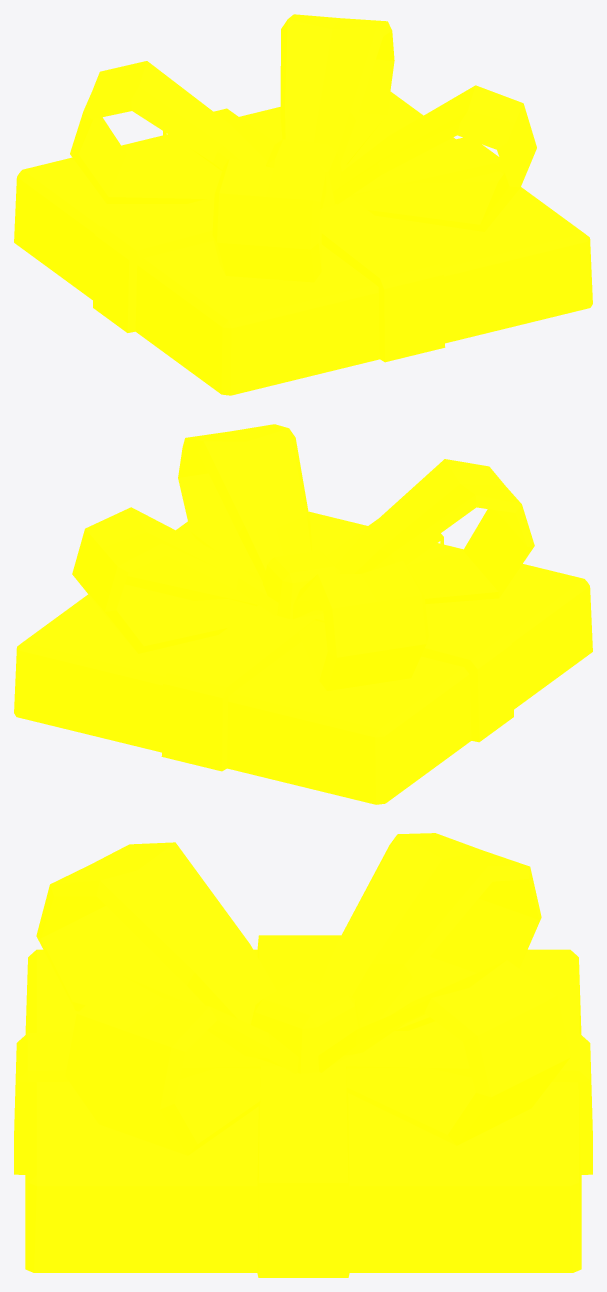
Rendered from gift-christmas-cube-open-lid.glb.
3 views of the same model, one above another, from view 1: azimuth 30°, elevation 25°; view 2: azimuth 150°, elevation 25°; view 3: azimuth 270°, elevation 25° (orthographic). The views are drawn at different scales.
Visible parts, largest first — view 1: gift_christmas_cube_open_lid; view 2: gift_christmas_cube_open_lid; view 3: gift_christmas_cube_open_lid.
Boxes of the visible parts, x1,y1,x2,y2 form: gift_christmas_cube_open_lid: (14,14,592,395); gift_christmas_cube_open_lid: (14,424,592,804); gift_christmas_cube_open_lid: (14,833,592,1277).
Bounding box in the file's own units: 0.3317 × 0.1515 × 0.3317.
Materials: 1 (1 with a texture image).
